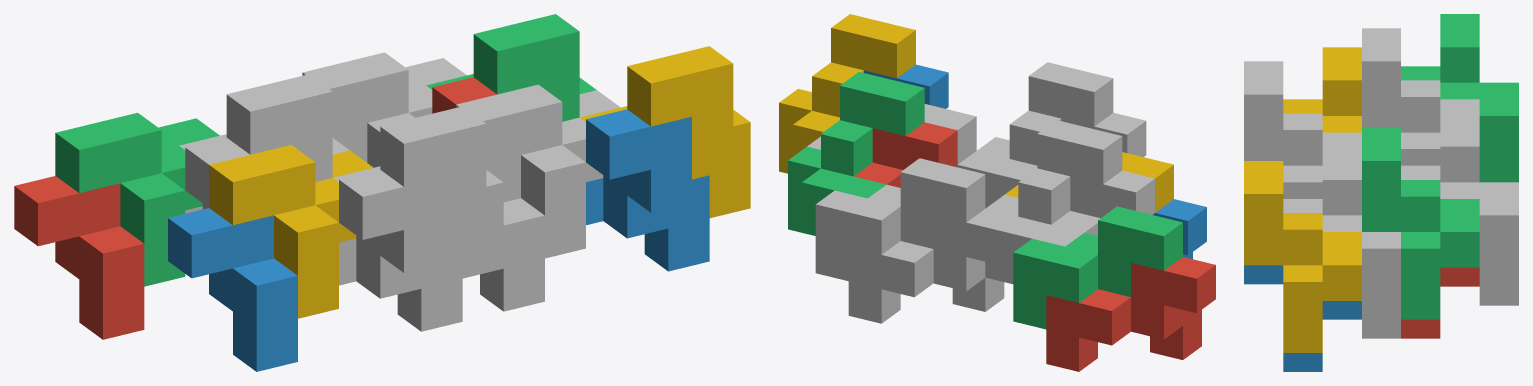
The model's file is tiling.obj.
3 renders of one model, left to right at view 1: azimuth 30°, elevation 25°; view 2: azimuth 150°, elevation 25°; view 3: azimuth 270°, elevation 25°, orthographic. The views are drawn at different scales.
Visible parts, largest first — view 1: copy_2_domain_2, copy_2_domain_6, copy_1_domain_4, copy_1_domain_3, copy_1_domain_1, copy_1_domain_2, copy_1_domain_8, copy_2_domain_4, copy_2_domain_8, copy_2_domain_7, copy_2_domain_3, copy_1_domain_7 (+4 smaller); view 2: copy_1_domain_1, copy_1_domain_7, copy_1_domain_3, copy_1_domain_5, copy_2_domain_7, copy_2_domain_3, copy_2_domain_8, copy_2_domain_4, copy_2_domain_5, copy_2_domain_1, copy_1_domain_8, copy_1_domain_4 (+4 smaller); view 3: copy_2_domain_8, copy_2_domain_7, copy_1_domain_7, copy_1_domain_3, copy_2_domain_4, copy_2_domain_3, copy_1_domain_8, copy_1_domain_4, copy_2_domain_6, copy_2_domain_5, copy_1_domain_5, copy_1_domain_6.
Boxes of the visible parts, x1,y1,x2,y2 form: copy_2_domain_2: (339,169,462,331); copy_2_domain_6: (586,109,709,271); copy_1_domain_4: (209,145,373,318); copy_1_domain_3: (55,112,219,286); copy_1_domain_1: (14,176,144,339); copy_1_domain_2: (168,208,297,371); copy_1_domain_8: (456,84,620,258); copy_2_domain_4: (333,106,503,278); copy_2_domain_8: (580,46,750,218); copy_2_domain_7: (426,14,596,121); copy_2_domain_3: (179,74,349,181); copy_1_domain_7: (302,52,466,167); copy_1_domain_1: (1046,257,1215,371); copy_1_domain_7: (815,158,985,281); copy_1_domain_3: (1013,206,1182,329); copy_1_domain_5: (848,208,1017,323); copy_2_domain_7: (788,72,924,235); copy_2_domain_3: (985,120,1122,284); copy_2_domain_8: (779,14,915,173); copy_2_domain_4: (977,62,1113,208); copy_2_domain_5: (854,122,957,187); copy_2_domain_1: (1051,170,1154,235); copy_1_domain_8: (807,104,976,164); copy_1_domain_4: (1005,152,1173,212); copy_2_domain_8: (1244,161,1361,352); copy_2_domain_7: (1362,127,1479,319); copy_1_domain_7: (1401,113,1518,286); copy_1_domain_3: (1401,14,1518,182); copy_2_domain_4: (1244,61,1361,198); copy_2_domain_3: (1362,28,1479,165); copy_1_domain_8: (1283,146,1400,319); copy_1_domain_4: (1283,47,1361,132); copy_2_domain_6: (1244,265,1361,371); copy_2_domain_5: (1401,267,1479,338); copy_1_domain_5: (1479,286,1518,305); copy_1_domain_6: (1362,319,1400,338).
Size of the model in its own units: 15 by 5 by 7.
